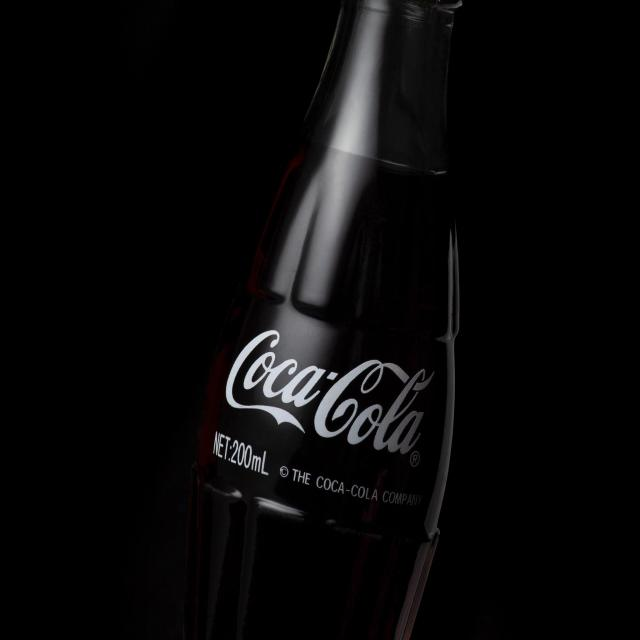coca-cola: (226, 316, 439, 455)
